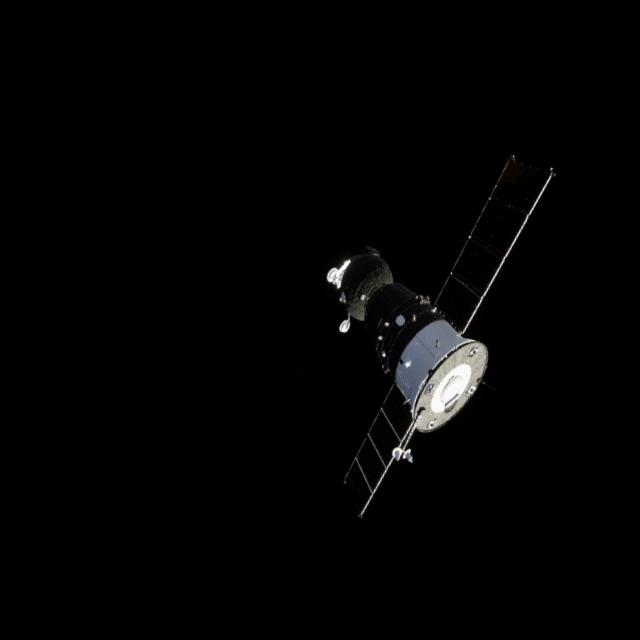Satellites revolving around earth: (268, 113, 560, 546)
